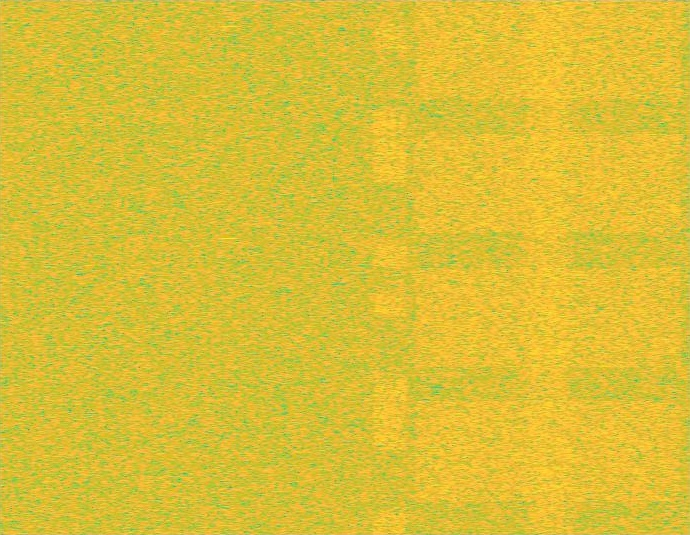5G: (410, 0, 686, 534)
DSSS: (517, 0, 579, 534)
LTE: (373, 0, 408, 534)
Radar: (222, 0, 236, 534)
